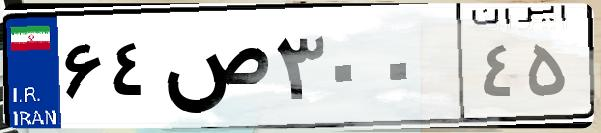0: (385, 28, 445, 110), (330, 28, 385, 110)
3: (270, 28, 330, 110)
4: (475, 38, 525, 113), (110, 28, 158, 98)
5: (525, 38, 570, 115)
6: (57, 26, 110, 100)
ص: (158, 20, 270, 120)
